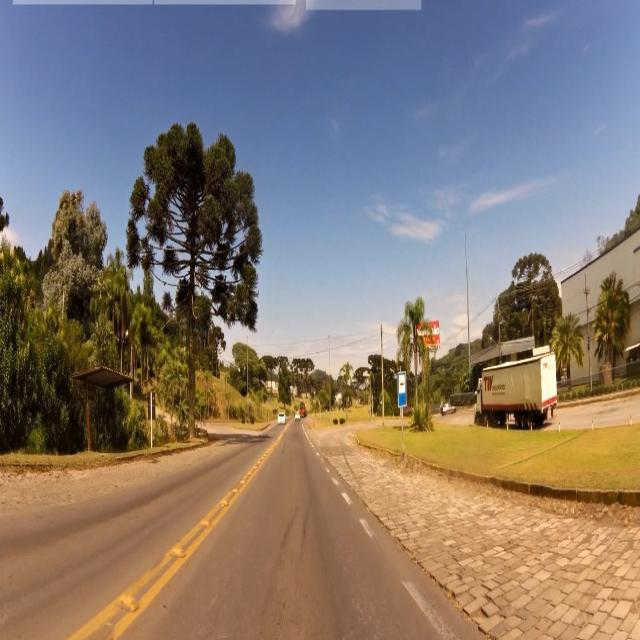S-14: (398, 372, 406, 408)
